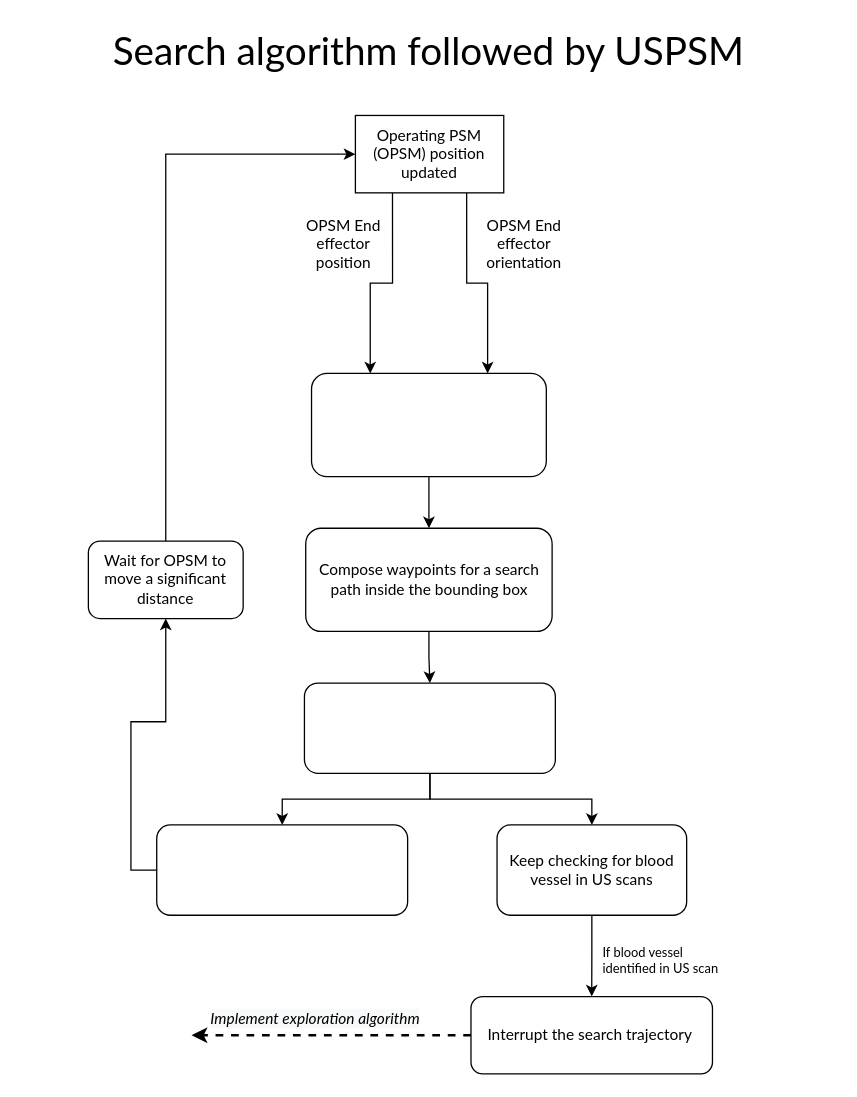
This 857x1097 diagram has some shape labels left out. Here are the shapes that lost their labels. From the top down, the centre of each, then its label:
point (428, 424): Create a rotated virtual bounding box around OPSM End Effector
point (429, 727): Generate a single trajectory that passes through all the waypoints
point (281, 869): Smooth the trajectory and play it
